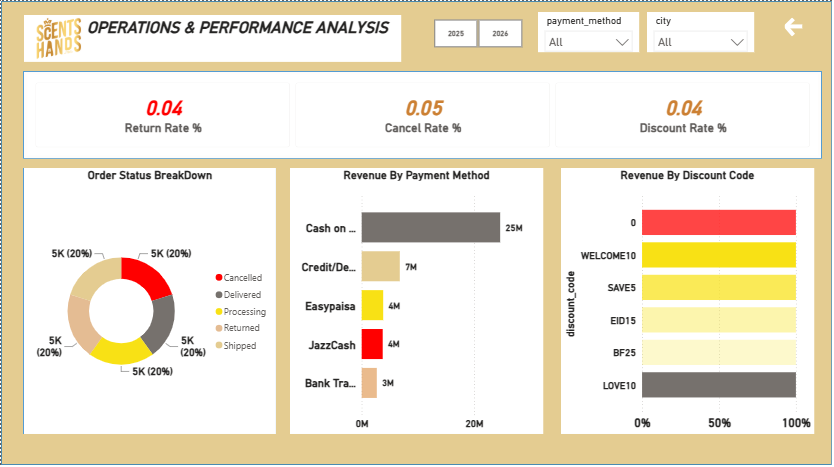

The dashboard page shown, as its layout file describes it:
{"tool":"powerbi","page":{"name":"Operations & Performance Analysis ","canvas":[1280,720],"ordinal":3},"visuals":[{"type":"shape","box":[0,0,1240.3,692.5],"z":0},{"type":"textbox","box":[34.3,20.9,562.7,70.1],"z":1},{"type":"image","box":[34.3,20.9,104.5,70.1],"z":2},{"type":"shape","box":[32.8,104.5,1192.5,131.3],"z":3},{"type":"cardVisual","fields":{"Data":["Measures (2).Return Rate %","Measures (2).Cancel Rate %","Measures (2).Discount Rate %"]},"box":[34.3,104.5,1191,131.3],"z":4},{"type":"shape","box":[32.8,249.3,377.6,397],"z":5},{"type":"shape","box":[431.3,249.3,377.6,397],"z":6},{"type":"shape","box":[835.8,249.3,377.6,397],"z":7},{"type":"donutChart","title":"Order Status BreakDown","fields":{"Category":["fact_sales.order_status"],"Y":["Measures (2).Total Orders"]},"box":[34.3,249.3,376.1,397],"z":8},{"type":"clusteredBarChart","title":"Revenue By Payment Method","fields":{"Category":["fact_sales.payment_method"],"Y":["Measures (2).Total Revenue"]},"box":[431.3,249.3,377.6,397],"z":9},{"type":"hundredPercentStackedBarChart","title":"Revenue By Discount Code","fields":{"Y":["Measures (2).Total Revenue"],"Category":["fact_sales.discount_code"]},"box":[835.8,249.3,377.6,397],"z":10},{"type":"slicer","fields":{"Values":["dim_calendar.year"]},"box":[620.9,20.9,180.6,55.2],"z":11},{"type":"slicer","fields":{"Values":["fact_sales.payment_method"]},"box":[801.5,16.4,150.7,59.7],"z":12},{"type":"slicer","fields":{"Values":["dim_customers.city"]},"box":[964.2,16.4,159.7,59.7],"z":13},{"type":"actionButton","box":[1141.8,20.9,83.6,35.8],"z":14}]}

Visuals, with their boxes in screenshot pixels (x1, y1, x2, y2), scaled from the page's 1280x720 canvas onto the 834x467 screenshot:
shape: l=0, t=0, r=808, b=449
textbox: l=22, t=14, r=389, b=59
image: l=22, t=14, r=90, b=59
shape: l=21, t=68, r=798, b=153
cardVisual - Measures (2).Return Rate % x Measures (2).Cancel Rate %: l=22, t=68, r=798, b=153
shape: l=21, t=162, r=267, b=419
shape: l=281, t=162, r=527, b=419
shape: l=545, t=162, r=791, b=419
"Order Status BreakDown" donutChart: l=22, t=162, r=267, b=419
"Revenue By Payment Method" clusteredBarChart: l=281, t=162, r=527, b=419
"Revenue By Discount Code" hundredPercentStackedBarChart: l=545, t=162, r=791, b=419
slicer - dim_calendar.year: l=405, t=14, r=522, b=49
slicer - fact_sales.payment_method: l=522, t=11, r=620, b=49
slicer - dim_customers.city: l=628, t=11, r=732, b=49
actionButton: l=744, t=14, r=798, b=37
